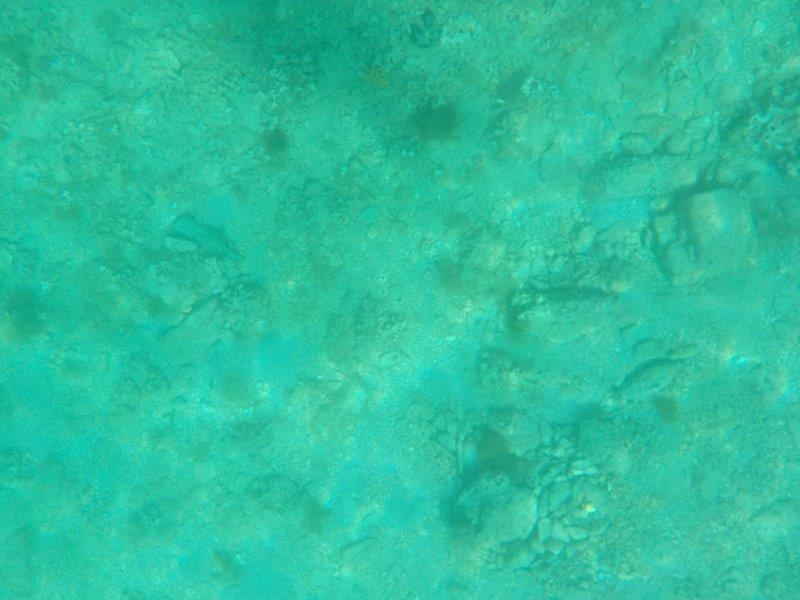bottle: (170, 210, 249, 268), (612, 355, 689, 406)
